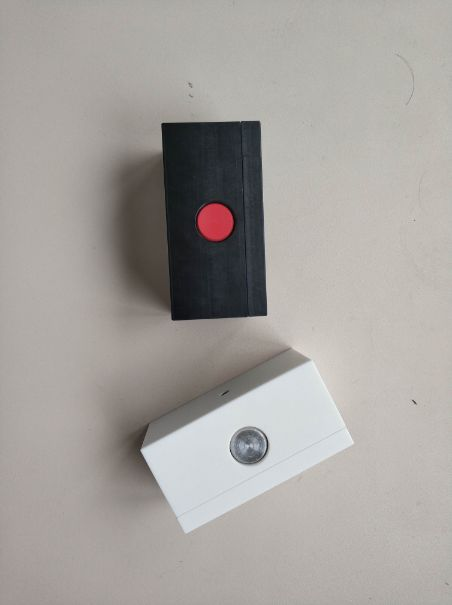black+black+red: (158, 117, 274, 322)
white+white+silver: (137, 345, 361, 538)
